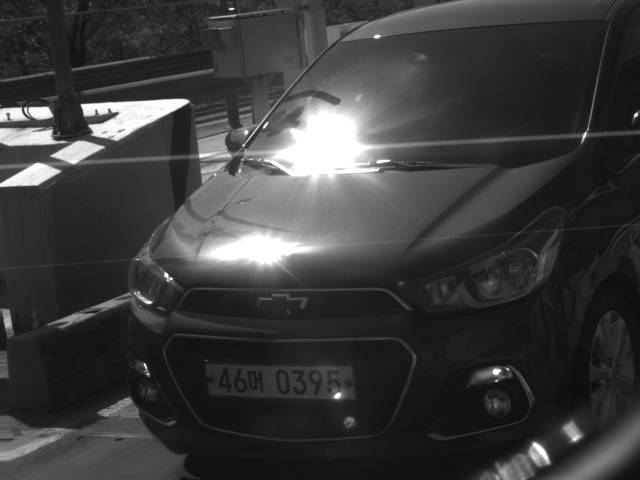car: (124, 1, 640, 461)
plate: (200, 359, 358, 402)
